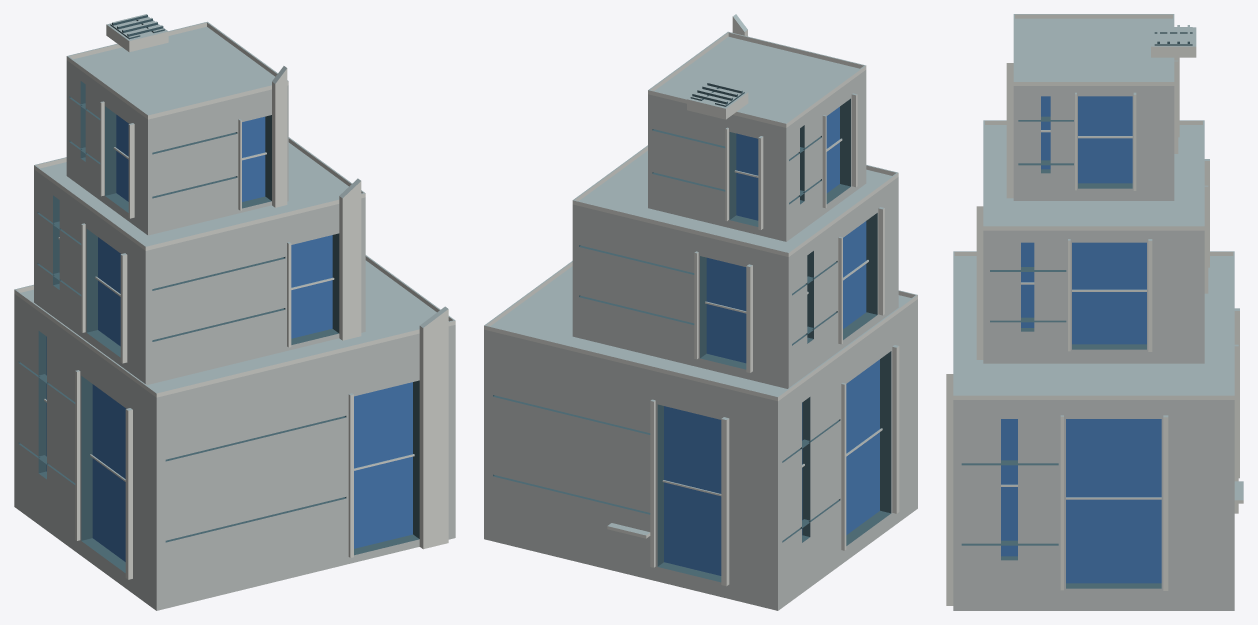
Rendered from 01_Terrassenhaus.obj.
The picture shows the model from 3 angles, left to right: view 1: azimuth 30°, elevation 25°; view 2: azimuth 150°, elevation 25°; view 3: azimuth 270°, elevation 25°; orthographic projection.
Size of the model in its own units: 0.666 by 1 by 0.5615.
